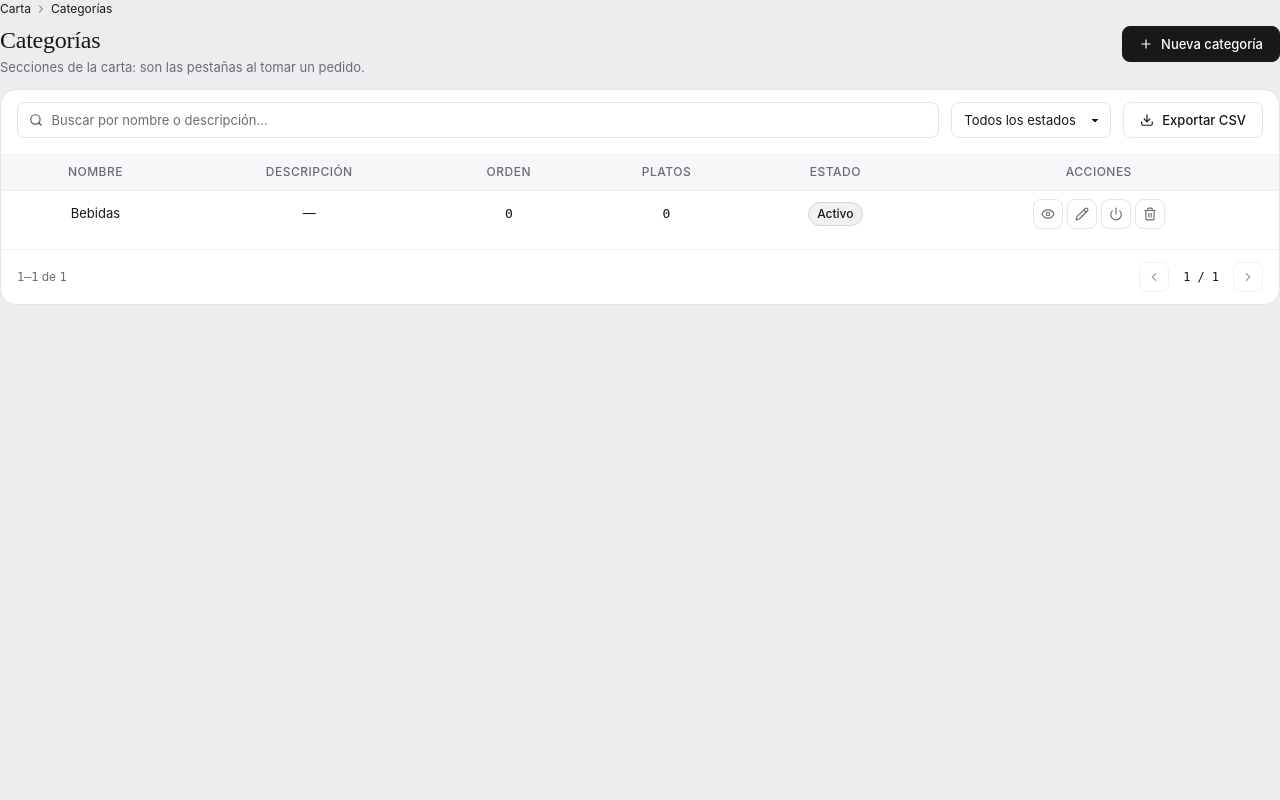
Categorías — listado › cambiar de estado sí sigue siendo un diálogo de confirmación
The width and height of the screenshot is (1280, 800).
Expected: the link "Bebidas" is shown, [71,205,120,221]
Click the button named "Desactivar": coordinates (1116, 214) [1101,199,1131,229]
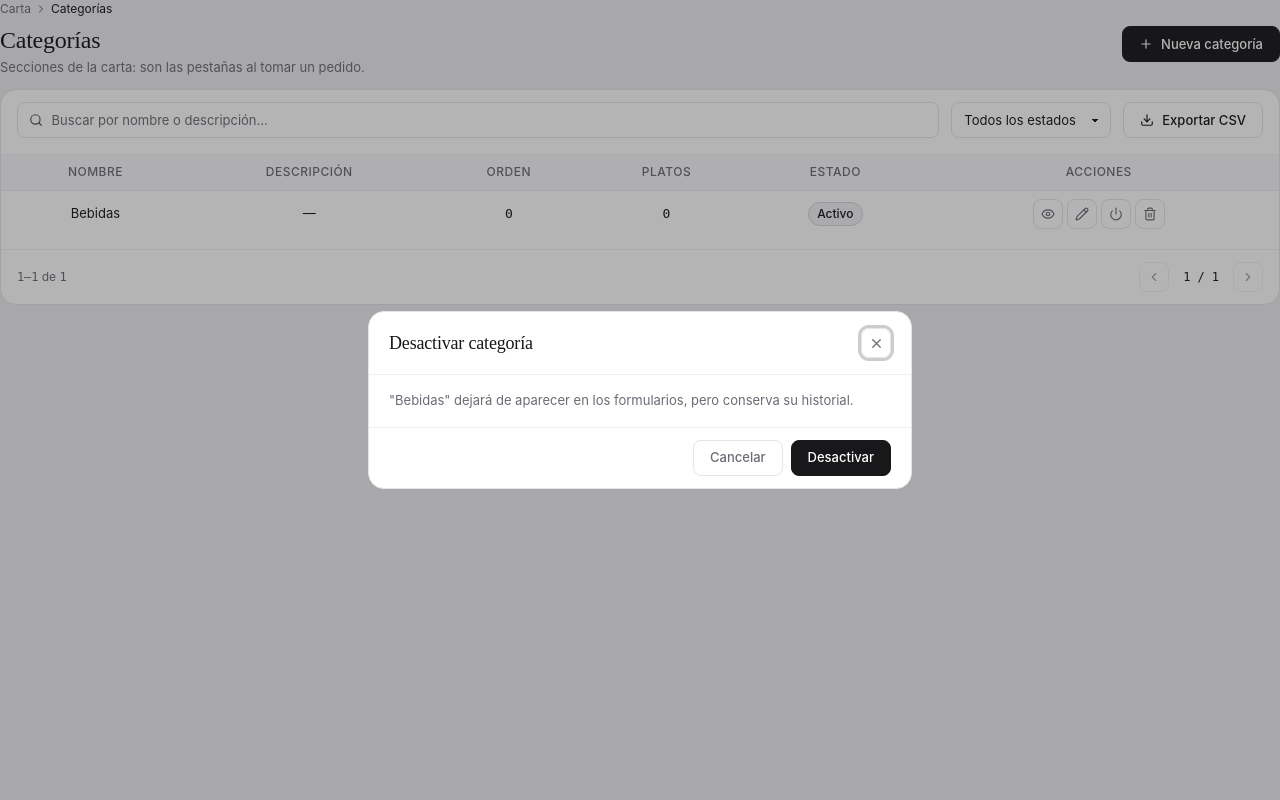
Result: the dialog shows "Desactivar categoría" at [389,333,533,353]
